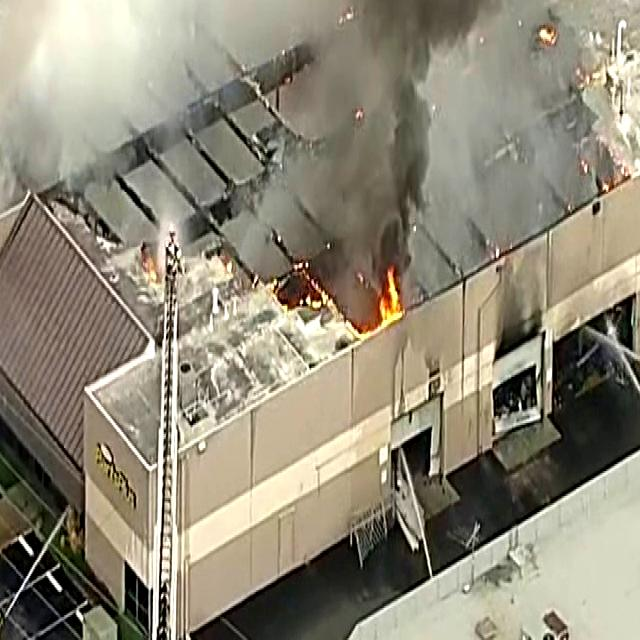smoke: (365, 0, 473, 244)
